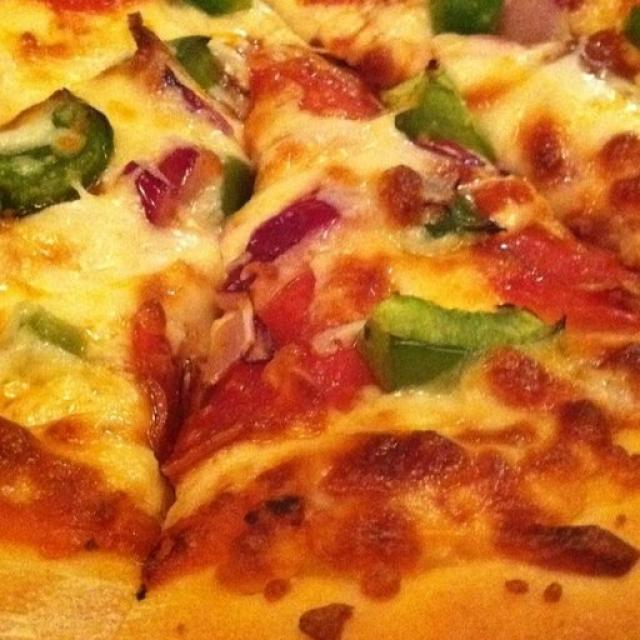Green Pepper: (364, 297, 557, 383), (0, 95, 99, 206), (404, 74, 509, 167), (428, 192, 488, 246), (218, 156, 246, 208)
Onions: (248, 223, 340, 270), (225, 265, 268, 357), (132, 148, 168, 220), (281, 184, 345, 224), (171, 139, 199, 189)
Pizza: (0, 0, 640, 640)
